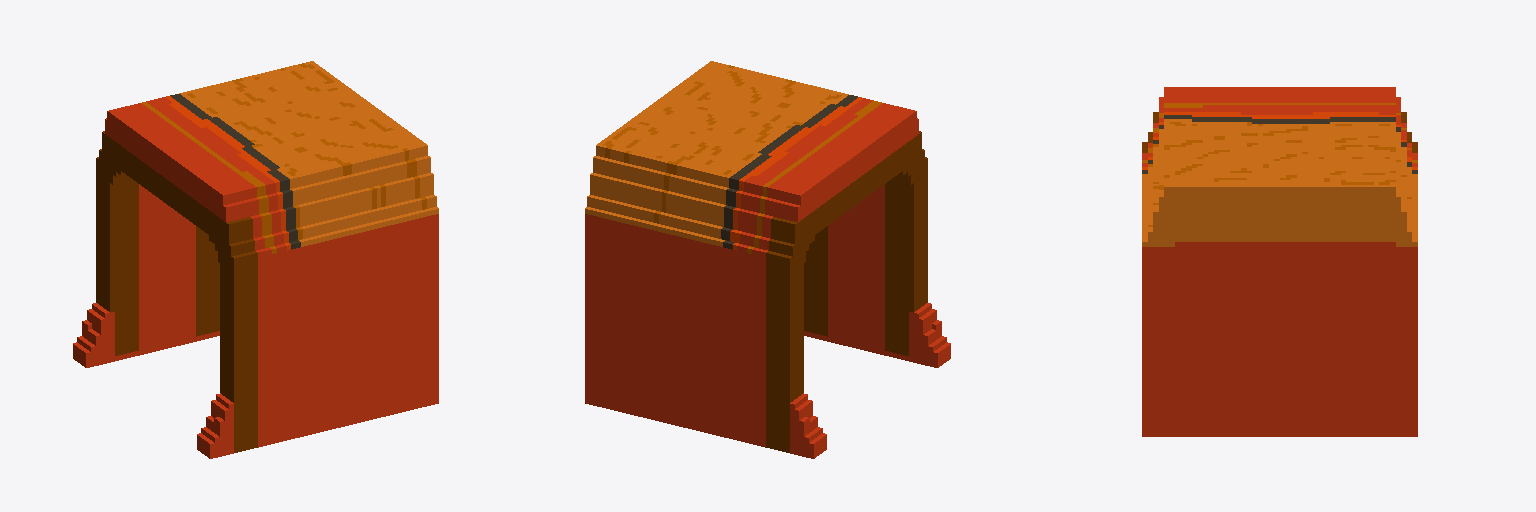
3 renders of one model, left to right at view 1: azimuth 30°, elevation 25°; view 2: azimuth 150°, elevation 25°; view 3: azimuth 270°, elevation 25°, orthographic.
Parts seen in each view (by area): view 1: object 1; view 2: object 1; view 3: object 1.
Part boxes in pixels (x1,y1,x2,y2): object 1: (73, 61, 438, 458); object 1: (585, 61, 950, 458); object 1: (1142, 87, 1417, 436).
Size of the model in its own units: 4.8 by 5 by 5.
1 materials, 1 textured.